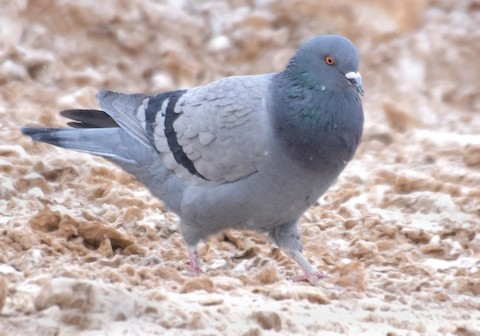pigeon: (16, 28, 371, 289)
